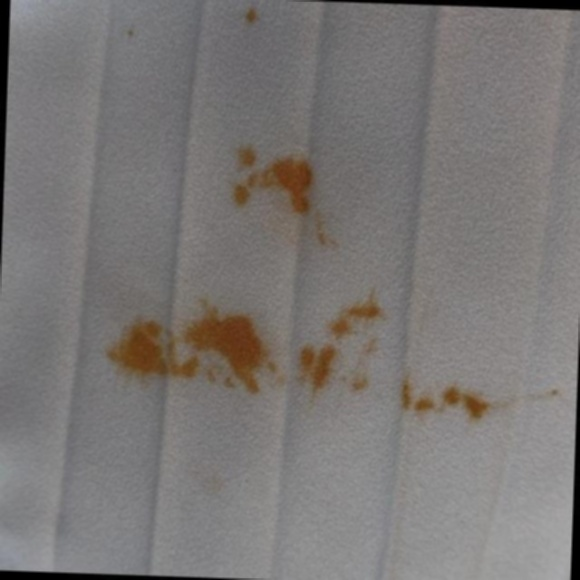kimchi: (99, 294, 565, 430), (222, 126, 343, 260), (234, 1, 266, 32), (118, 23, 143, 47)
